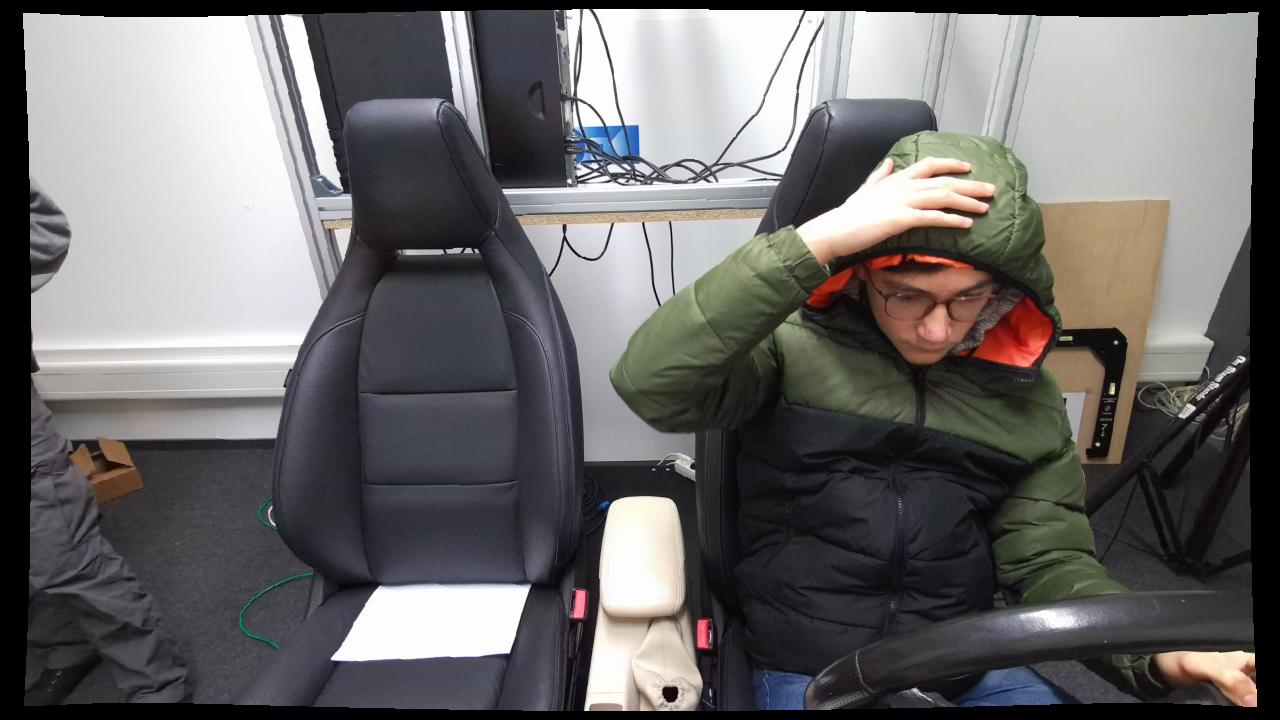Distracted: (609, 131, 1067, 708)
